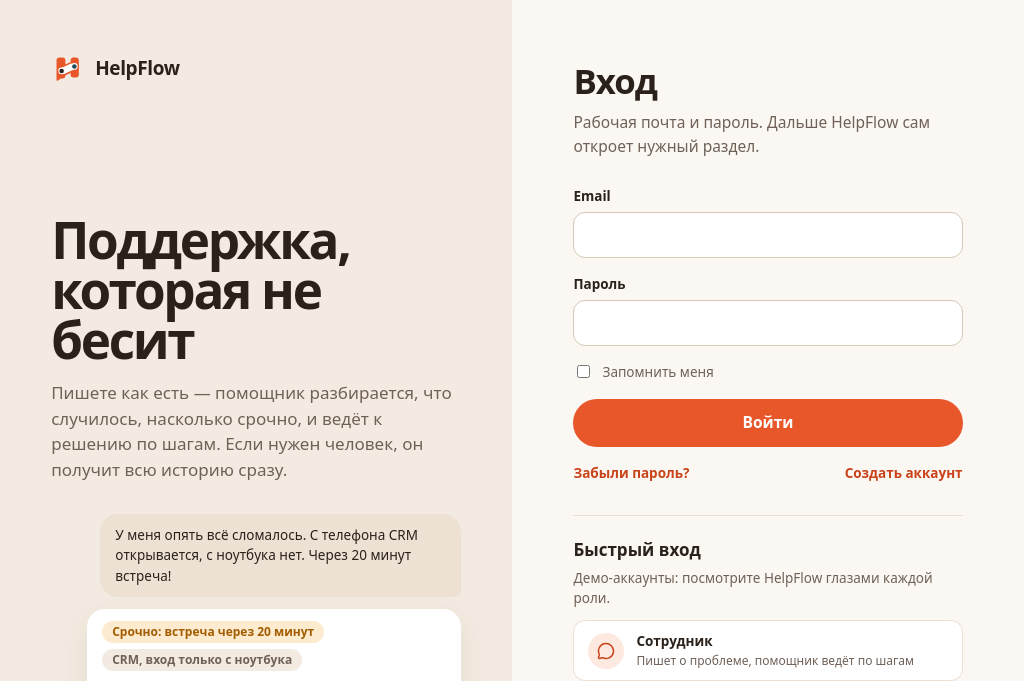
Test: auth pages › logs in and shows a clear pending action
The width and height of the screenshot is (1024, 681).
Type "a@example.ru" into the field labelled "Email". click: (768, 235)
box: top-left (573, 212), bottom-right (962, 258)
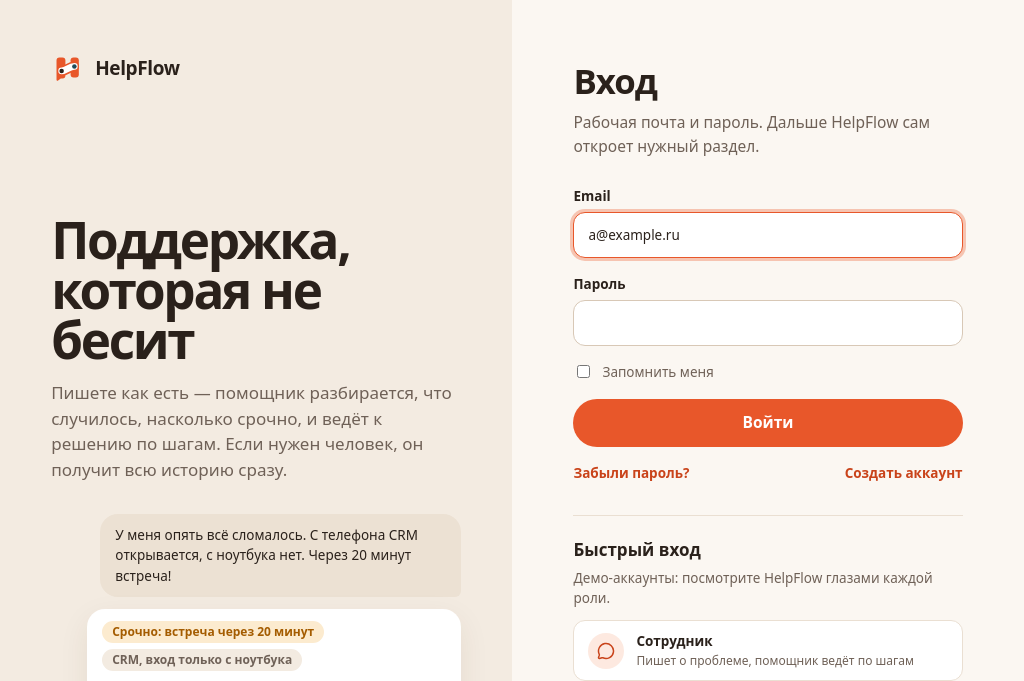
Type "StrongPass7" into the password field labelled "Пароль". click: (768, 324)
box: top-left (573, 300), bottom-right (962, 346)
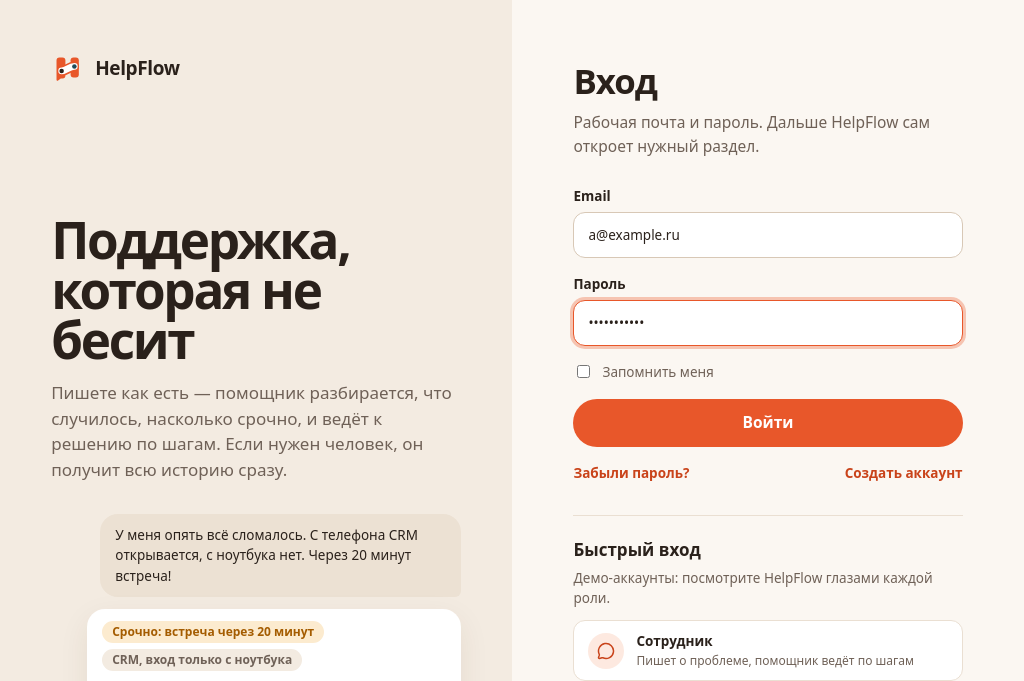
Click the button "Войти". click: (768, 423)
box: top-left (573, 399), bottom-right (962, 447)
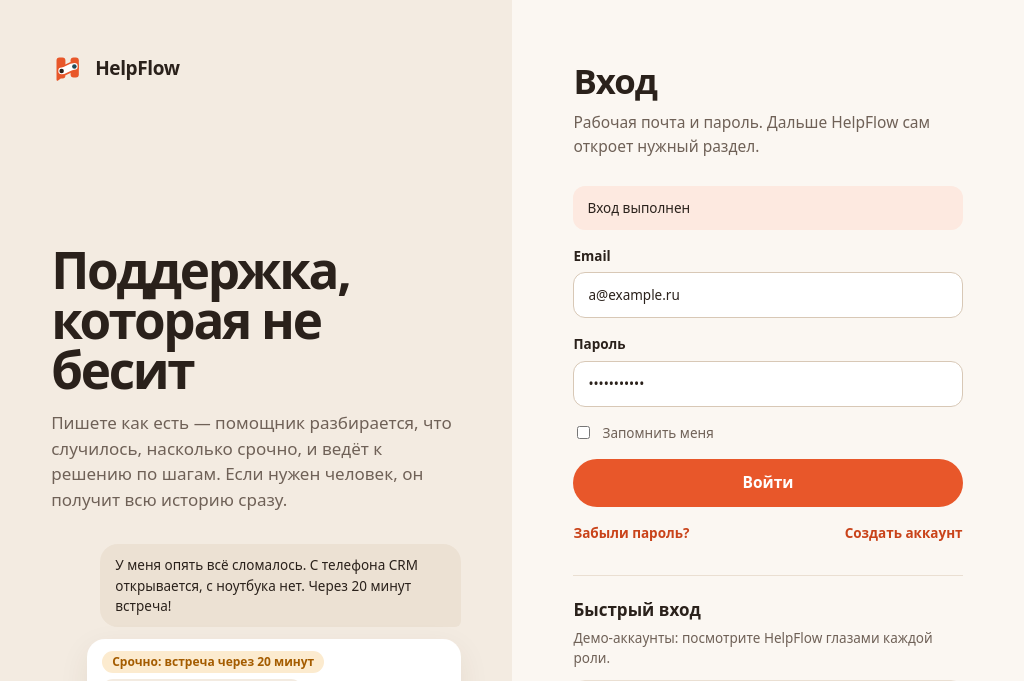
Check: the text "Вход выполнен" is shown, box top-left (573, 186), bottom-right (962, 230)
